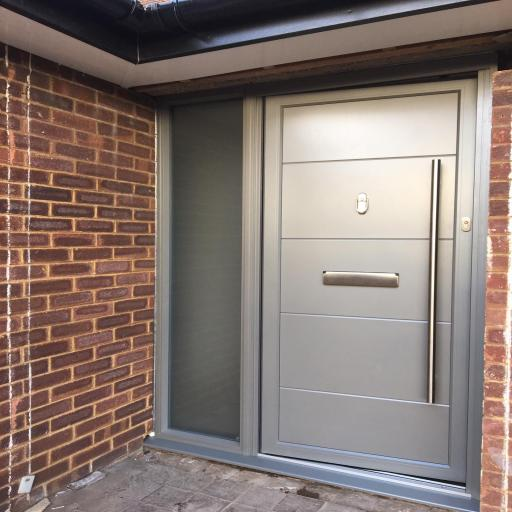Door: (263, 77, 474, 483)
